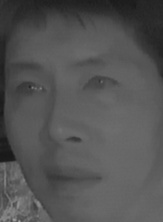eye: (80, 73, 119, 96), (14, 79, 48, 102)
mouth: (42, 162, 104, 195)
